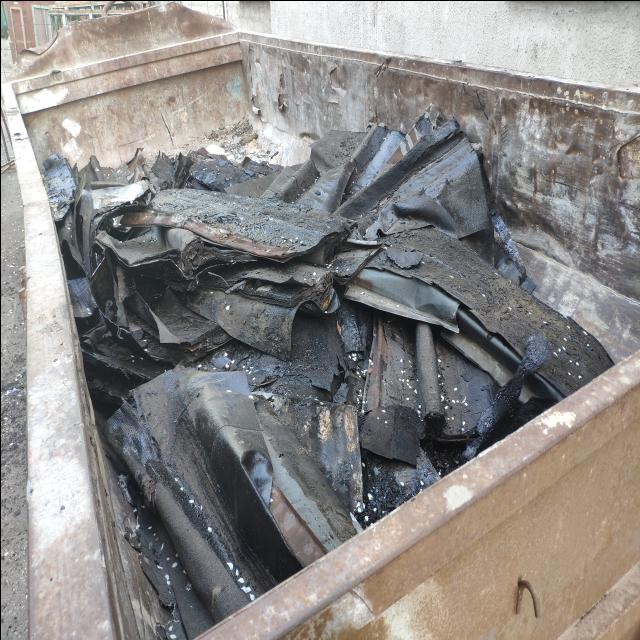entulho: (91, 367, 292, 586), (337, 250, 527, 380), (354, 298, 494, 468), (230, 402, 362, 544), (115, 183, 356, 258), (389, 120, 493, 236), (40, 154, 80, 224)
